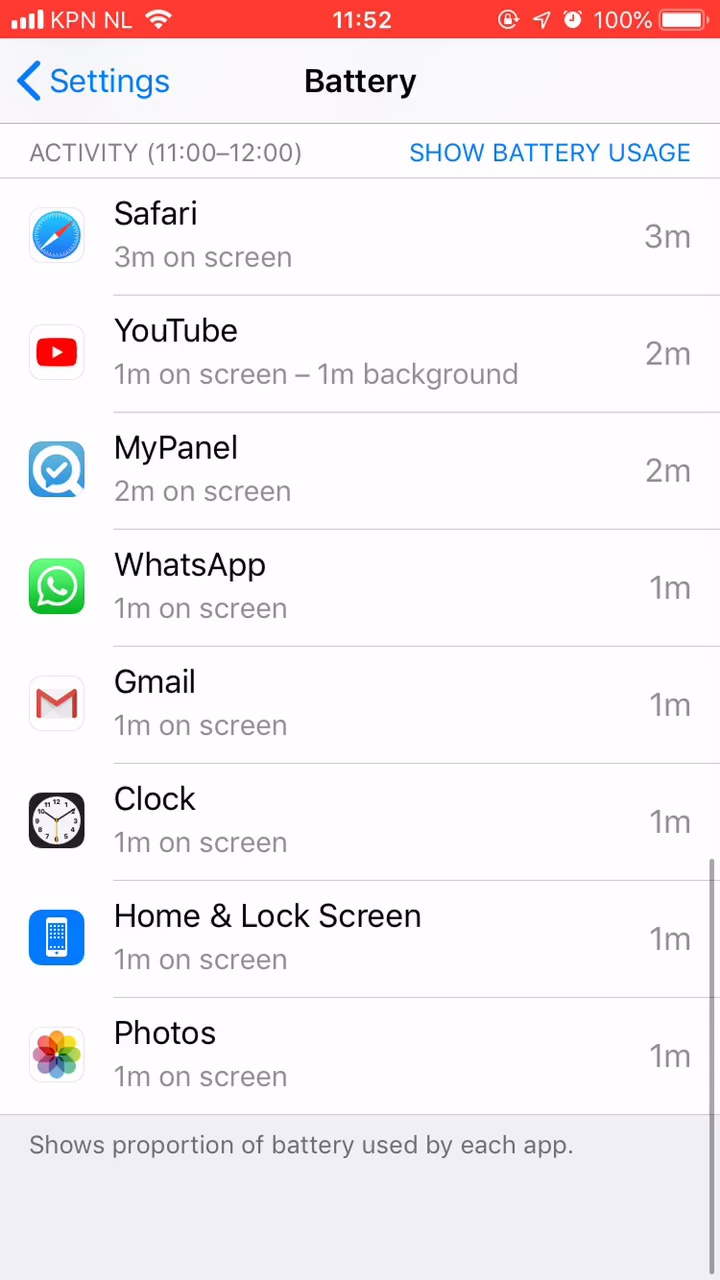activity: (30, 133, 335, 171)
app: (33, 196, 703, 278), (26, 310, 696, 392), (26, 427, 696, 509), (24, 543, 694, 625), (25, 660, 695, 742), (22, 781, 692, 863), (25, 897, 695, 979), (30, 1014, 700, 1096)
